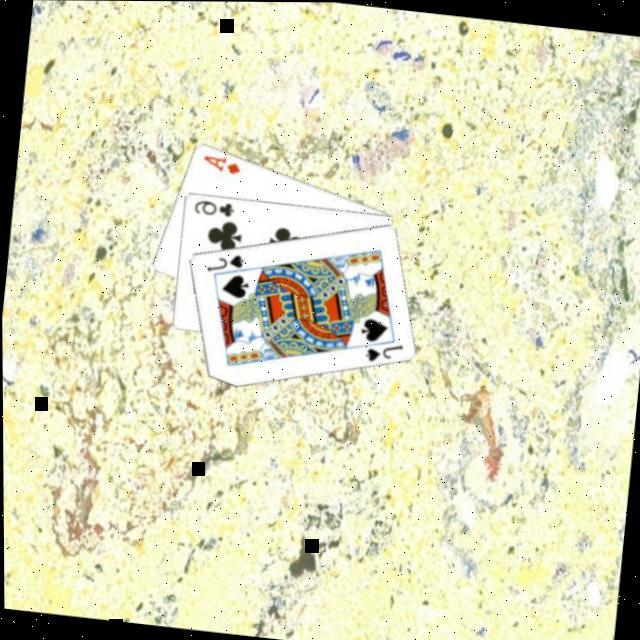6C: (187, 193, 234, 218)
AD: (196, 150, 242, 176)
JS: (200, 246, 244, 276), (359, 336, 403, 364)
